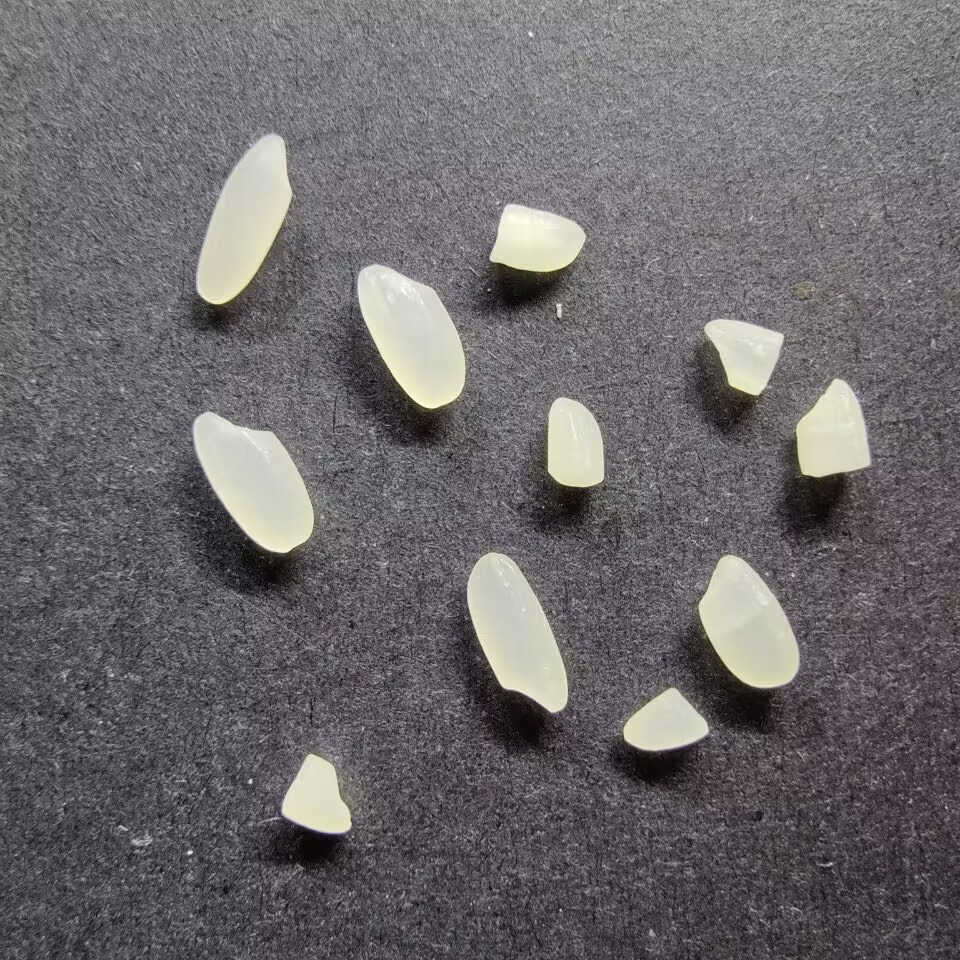broken: (793, 373, 873, 480), (490, 201, 587, 274), (702, 317, 786, 397), (278, 752, 355, 835), (620, 686, 710, 753), (544, 395, 606, 489)
rice: (190, 408, 316, 556), (193, 131, 295, 306), (464, 550, 571, 715), (355, 264, 471, 409), (695, 553, 802, 689)
